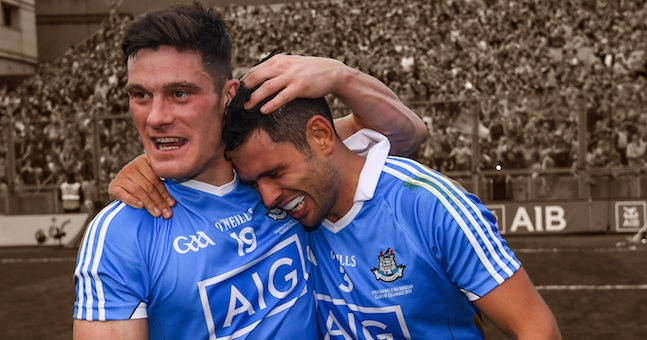player: (231, 63, 552, 330), (75, 11, 315, 338)
